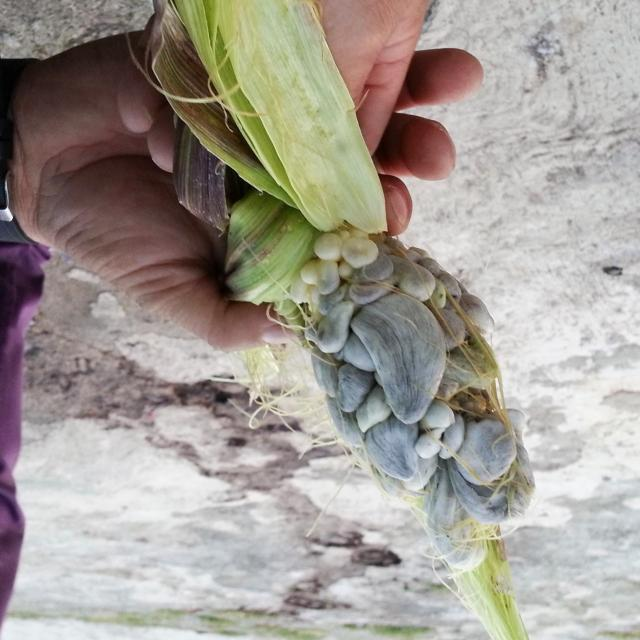Leaf_Scald: (252, 198, 618, 596)
